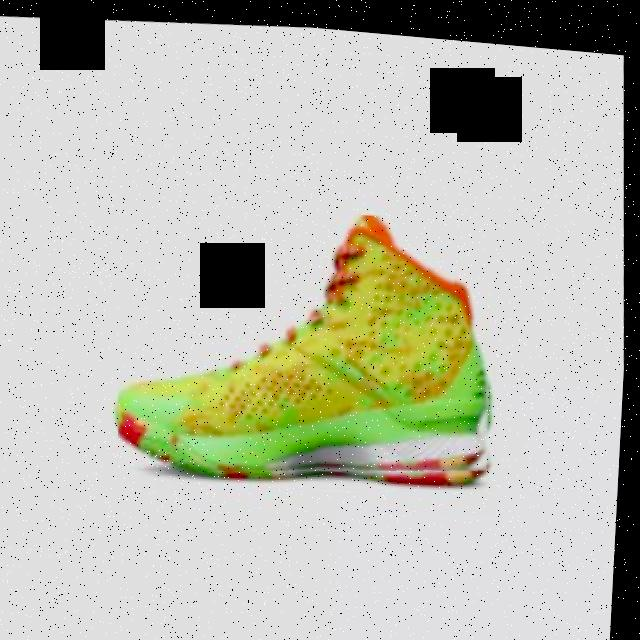shoe: (110, 184, 508, 495)
